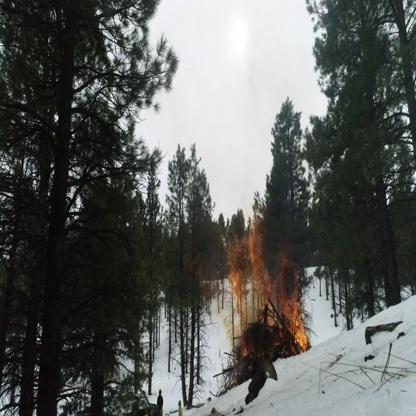Fire: (223, 211, 311, 361)
